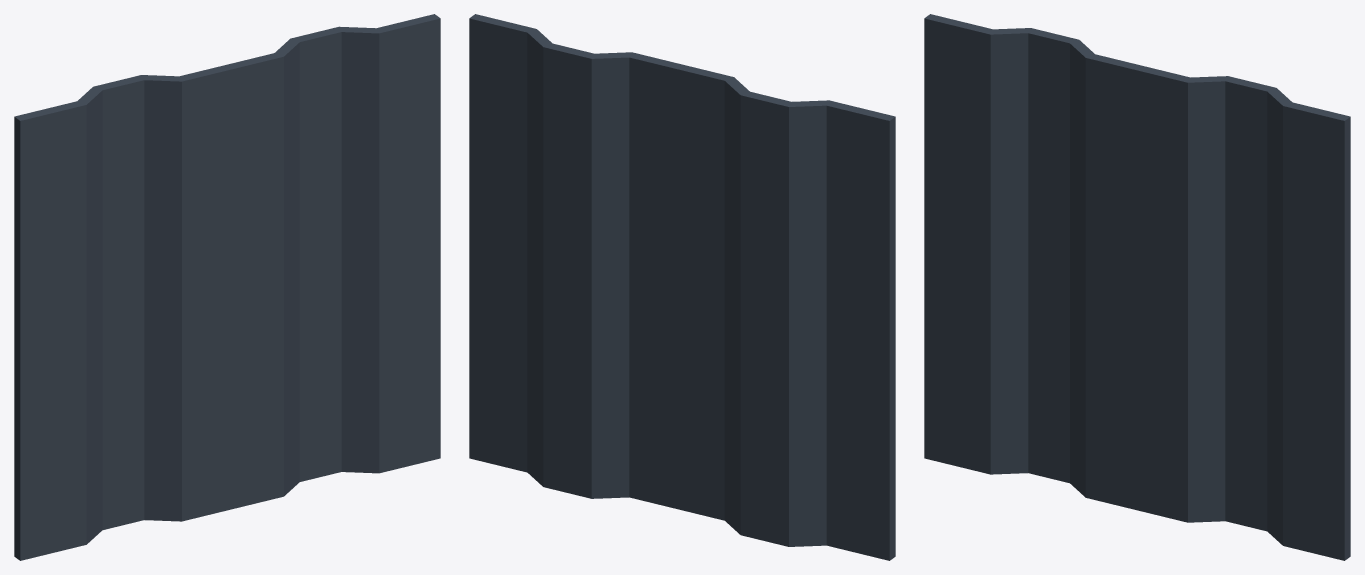
Rendered from Wall10.fbx.
The picture shows the model from 3 angles, left to right: view 1: azimuth 30°, elevation 25°; view 2: azimuth 150°, elevation 25°; view 3: azimuth 330°, elevation 25°; orthographic projection.
Parts seen in each view (by area): view 1: Plane.082; view 2: Plane.082; view 3: Plane.082.
Part boxes in pixels (x1,y1,x2,y2): Plane.082: (14,14,440,560); Plane.082: (469,14,895,560); Plane.082: (924,14,1350,560).
Size of the model in its own units: 4000 by 4000 by 279.
